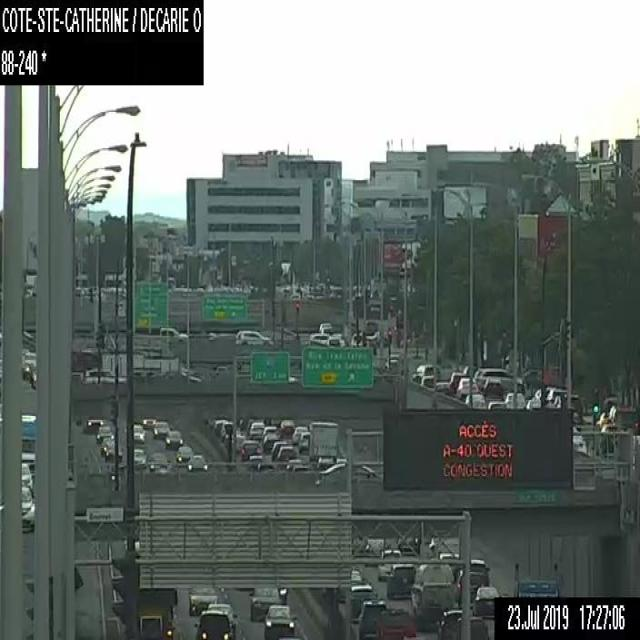vehicle: (409, 558, 455, 629), (510, 563, 560, 597), (307, 421, 338, 463), (263, 604, 297, 639), (248, 586, 282, 620), (377, 608, 414, 639), (194, 610, 234, 638), (356, 598, 386, 635), (318, 463, 378, 481), (473, 368, 521, 390), (350, 584, 378, 619), (385, 563, 413, 597), (207, 603, 237, 634), (436, 609, 467, 639), (471, 585, 499, 618), (608, 404, 638, 434), (600, 424, 629, 453), (554, 393, 583, 420), (79, 367, 125, 384), (377, 549, 402, 579), (188, 588, 217, 612), (460, 615, 489, 639), (18, 487, 34, 528), (234, 329, 272, 345), (161, 369, 201, 384), (468, 558, 490, 584), (483, 376, 505, 400), (456, 569, 476, 595), (439, 553, 463, 574), (384, 353, 407, 374), (157, 325, 188, 340), (456, 377, 478, 398), (412, 364, 439, 381), (146, 452, 170, 470), (275, 446, 298, 464), (572, 426, 587, 452), (240, 440, 261, 458), (504, 392, 526, 409), (464, 393, 486, 410), (82, 414, 103, 431), (188, 454, 208, 471), (20, 462, 32, 489), (271, 440, 287, 460), (24, 351, 36, 377), (262, 426, 279, 444), (165, 430, 182, 447), (174, 446, 191, 463), (351, 331, 367, 348), (100, 437, 116, 454), (95, 426, 112, 441), (152, 421, 169, 436), (104, 447, 122, 461), (133, 448, 146, 467), (309, 332, 329, 344), (292, 426, 306, 443), (233, 433, 246, 451), (249, 422, 263, 438), (133, 424, 145, 442), (262, 433, 276, 448), (279, 419, 294, 433), (547, 388, 567, 398), (487, 401, 508, 410), (420, 375, 435, 387), (140, 415, 155, 427), (256, 462, 274, 472), (326, 336, 342, 347), (298, 432, 309, 448), (350, 569, 362, 583), (286, 458, 302, 468), (318, 322, 332, 332), (321, 326, 332, 334), (293, 464, 305, 471), (248, 455, 262, 460)
